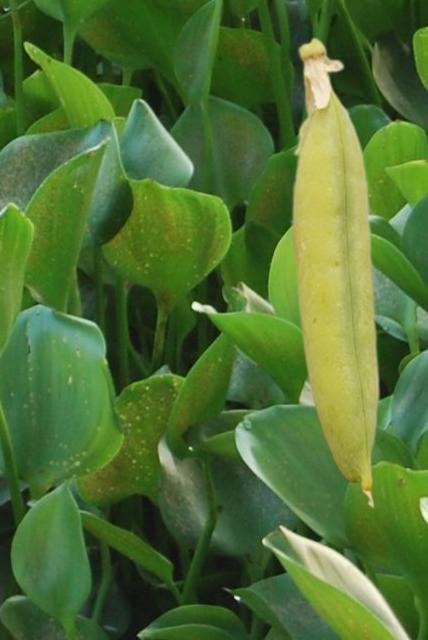pea: (291, 36, 380, 507)
